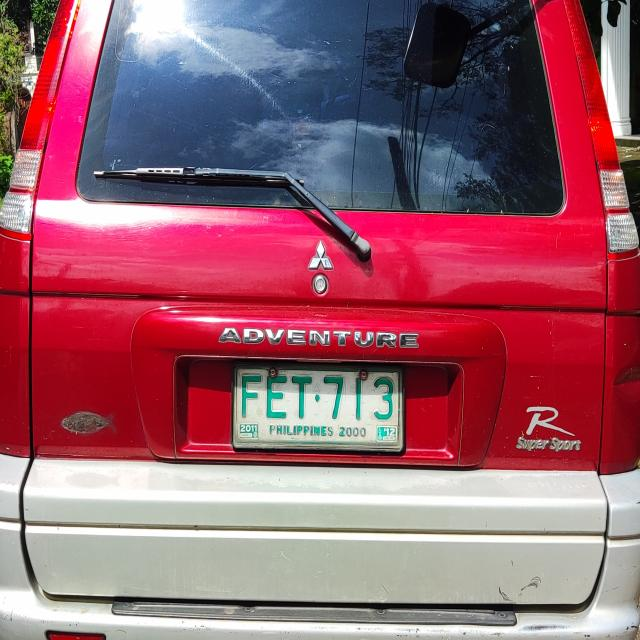plate: (230, 361, 406, 457)
